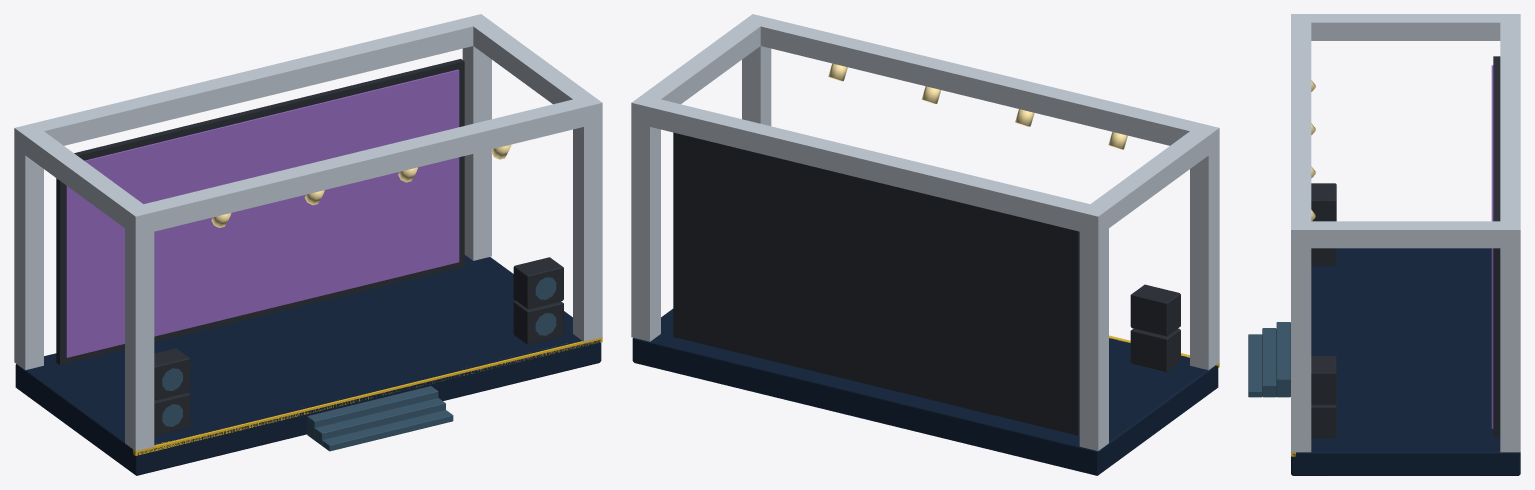
File: CM_Prop_EventStage.fbx
3 renders of one model, left to right at view 1: azimuth 30°, elevation 25°; view 2: azimuth 150°, elevation 25°; view 3: azimuth 270°, elevation 25°, orthographic. The views are drawn at different scales.
Visible parts, largest first — view 1: Body, Face, Light; view 2: Body, Light; view 3: Body, Face.
Part boxes in pixels (x1,y1,x2,y2): Body: (14,14,602,475); Face: (66,69,459,357); Light: (211,144,511,227); Body: (631,14,1219,475); Light: (828,63,1127,149); Body: (1248,14,1520,475); Face: (1491,65,1493,428).
Size of the model in its own units: 30 by 16 by 16.
Materials: 1 (1 with a texture image).
